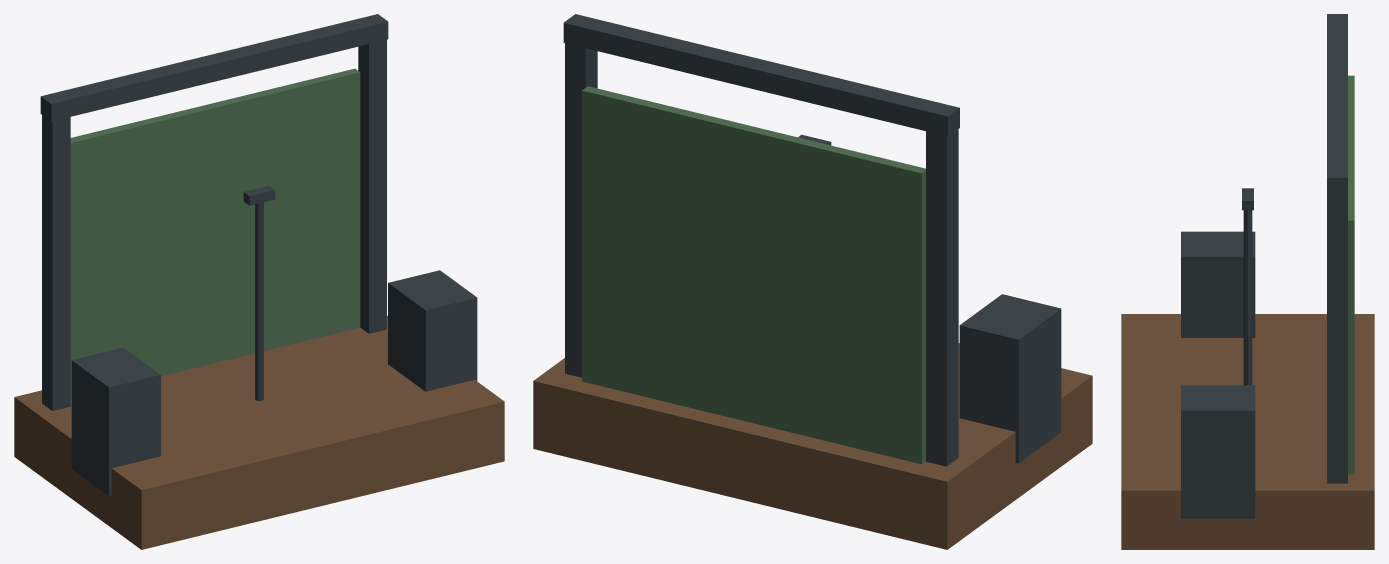
Rendered from stage.glb.
3 renders of one model, left to right at view 1: azimuth 30°, elevation 25°; view 2: azimuth 150°, elevation 25°; view 3: azimuth 270°, elevation 25°, orthographic. The views are drawn at different scales.
Visible parts, largest first — view 1: stage; view 2: stage; view 3: stage.
Boxes of the visible parts, box(x1,y1,x2,y2) form: stage: box(14, 14, 504, 549); stage: box(533, 14, 1092, 549); stage: box(1121, 14, 1374, 549).
Bounding box in the file's own units: 1 × 0.9525 × 0.5986.
